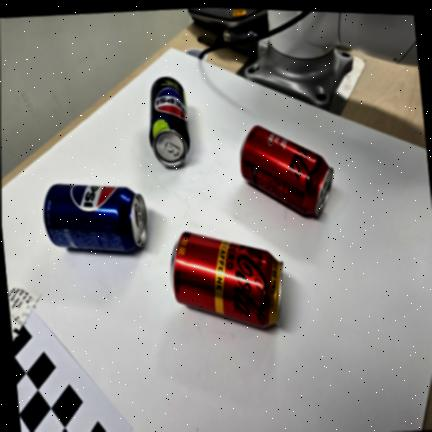can_coke_decaf: (171, 232, 283, 328)
can_coke_zero: (240, 126, 333, 216)
can_pepsi: (44, 184, 147, 251)
can_pepsi_zero: (149, 77, 190, 167)
